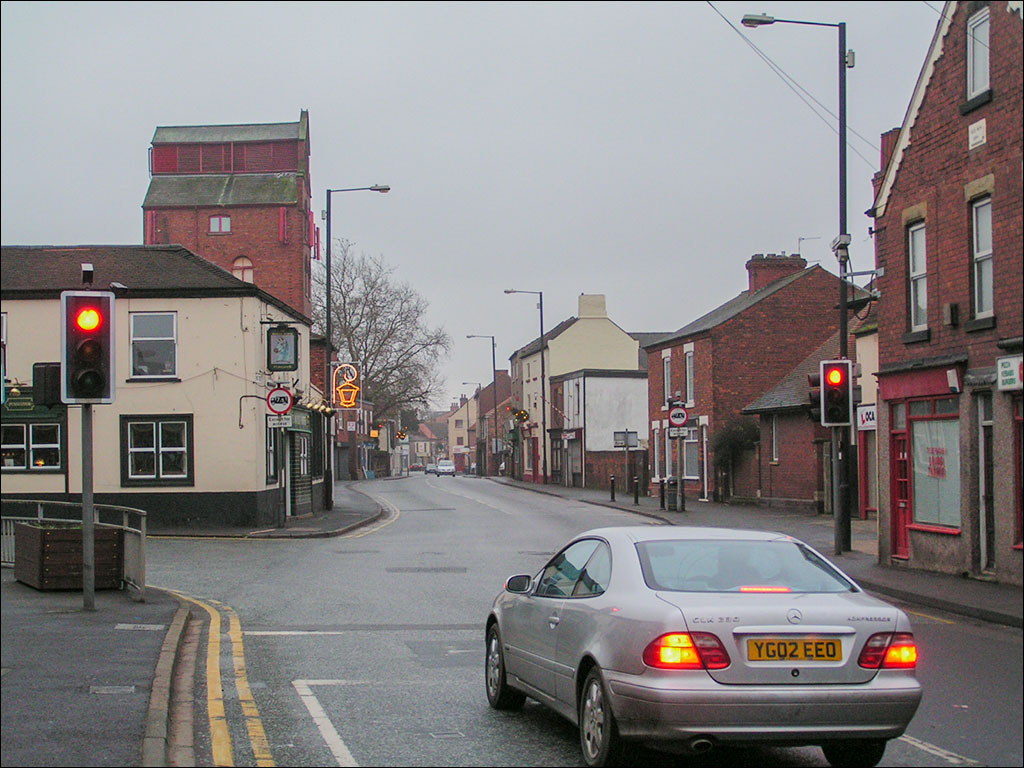traffic_light: (57, 288, 118, 407), (818, 358, 855, 428)
